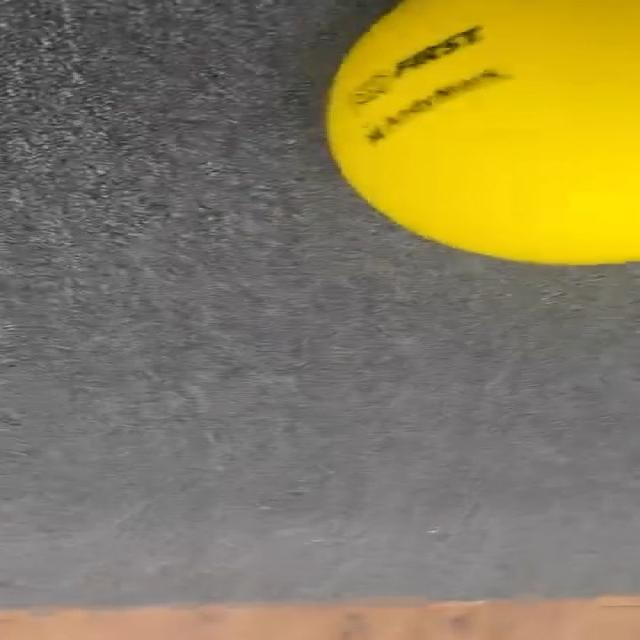Fuels: (331, 0, 638, 263)
